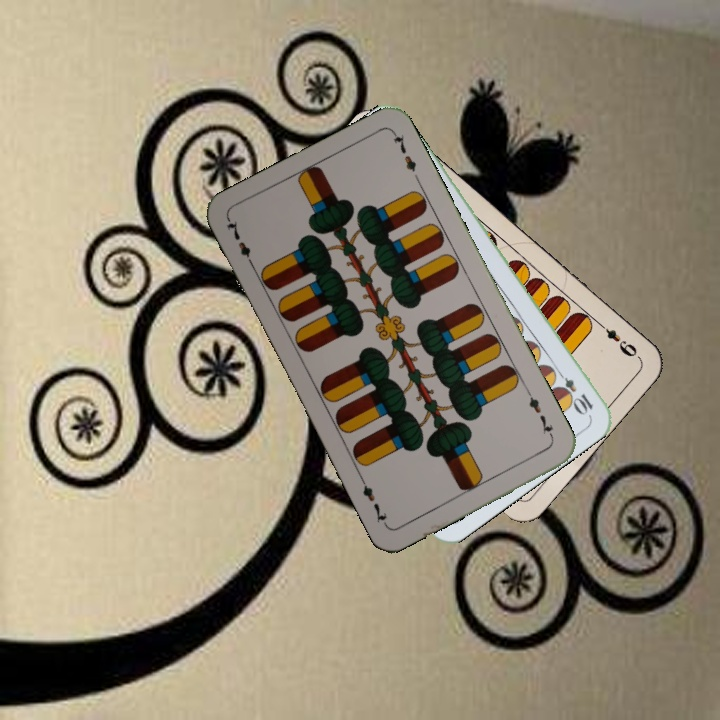E10: (550, 365, 596, 417)
E7: (523, 387, 557, 442), (223, 216, 257, 270)
E9: (593, 317, 642, 361)
